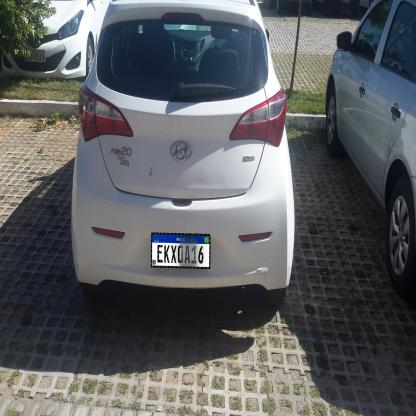PlacaM: (151, 232, 210, 269)
